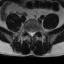CCS_normal: (30, 29, 33, 38)
LFS_stenosis: (35, 28, 37, 35)
LLS_normal: (33, 29, 35, 37)
RFS_normal: (26, 28, 28, 35)
RLS_normal: (28, 29, 30, 37)
